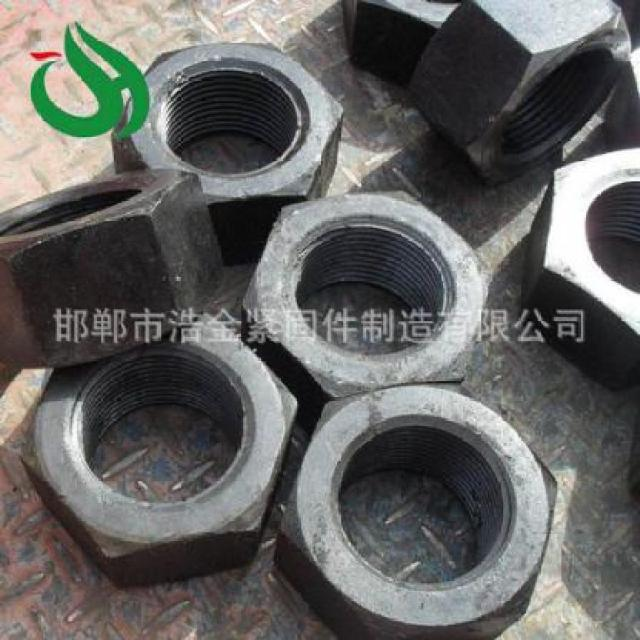Nut: (17, 311, 305, 594), (272, 378, 560, 640), (237, 188, 496, 434), (110, 40, 346, 266), (0, 166, 231, 370), (408, 0, 634, 185), (520, 143, 640, 390)
